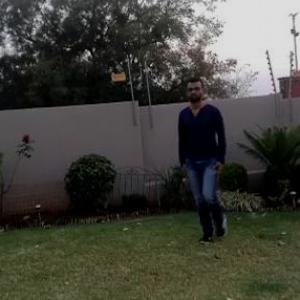follow: (177, 81, 226, 226)
